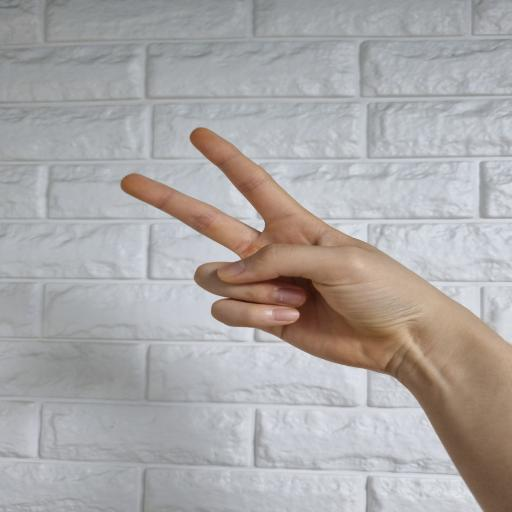Scissors: (119, 125, 460, 381)
